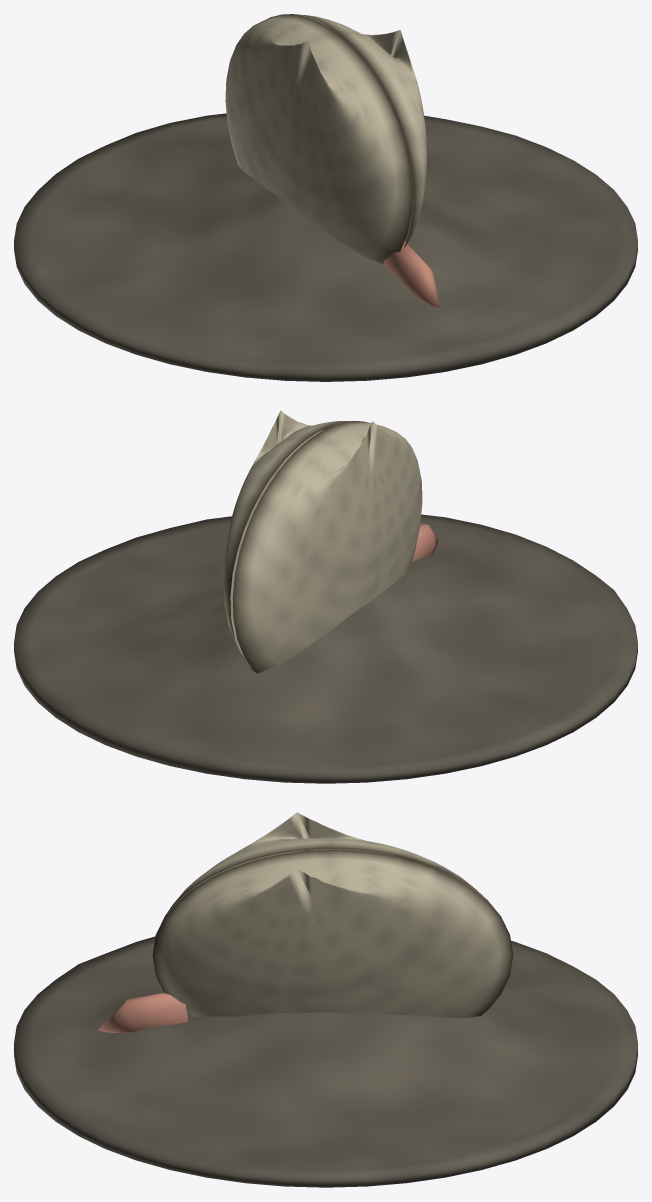
The model's file is BabinkaPrima.fbx.
The picture shows the model from 3 angles, top to bottom: view 1: azimuth 30°, elevation 25°; view 2: azimuth 150°, elevation 25°; view 3: azimuth 270°, elevation 25°; orthographic projection.
Parts seen in each view (by area): view 1: BabinkaPrima; view 2: BabinkaPrima; view 3: BabinkaPrima.
Part boxes in pixels (<box>): BabinkaPrima: <box>14,14,637,381</box>; BabinkaPrima: <box>14,410,637,783</box>; BabinkaPrima: <box>14,812,637,1187</box>.
Size of the model in its own units: 1.8 by 0.7635 by 1.8.
